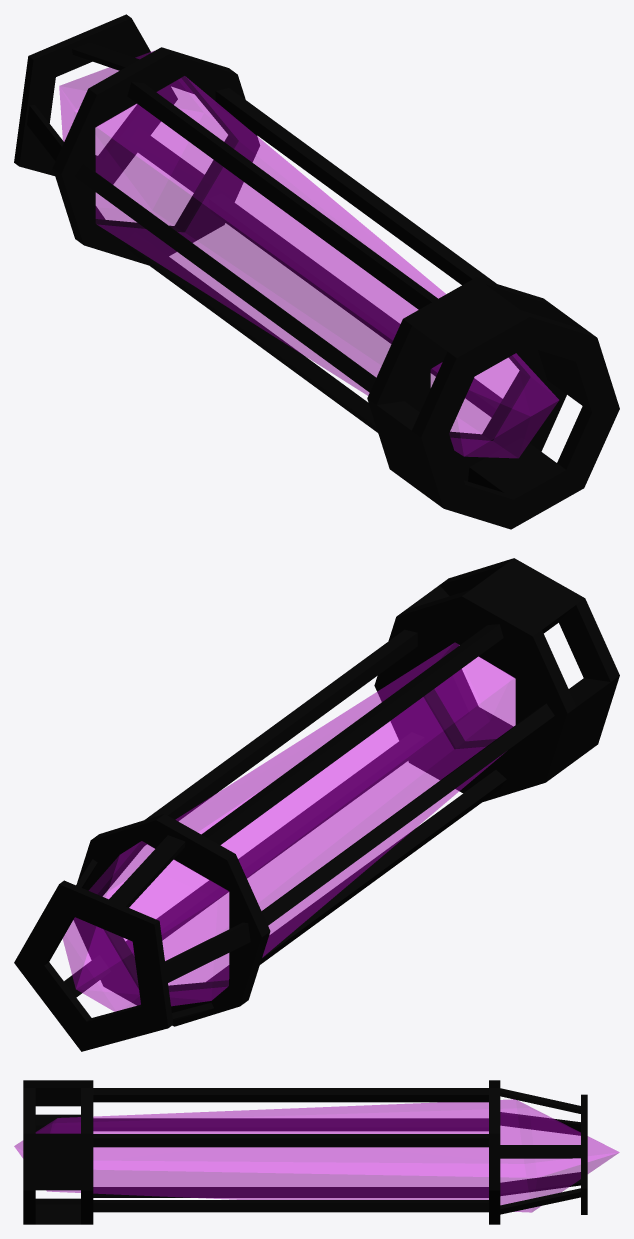
The model's file is missile.dae.
The picture shows the model from 3 angles, top to bottom: view 1: azimuth 30°, elevation 25°; view 2: azimuth 150°, elevation 25°; view 3: azimuth 270°, elevation 25°; orthographic projection. The views are drawn at different scales.
Parts seen in each view (by area): view 1: circle1, crystal; view 2: circle1, crystal; view 3: circle1, crystal.
Part boxes in pixels (bbox=[...]): circle1: bbox=[14, 14, 619, 529]; crystal: bbox=[59, 50, 558, 458]; circle1: bbox=[14, 558, 619, 1051]; crystal: bbox=[63, 643, 515, 1011]; circle1: bbox=[23, 1080, 587, 1224]; crystal: bbox=[14, 1099, 619, 1212].
Size of the model in its own units: 0.4381 by 1.79 by 0.4381.
